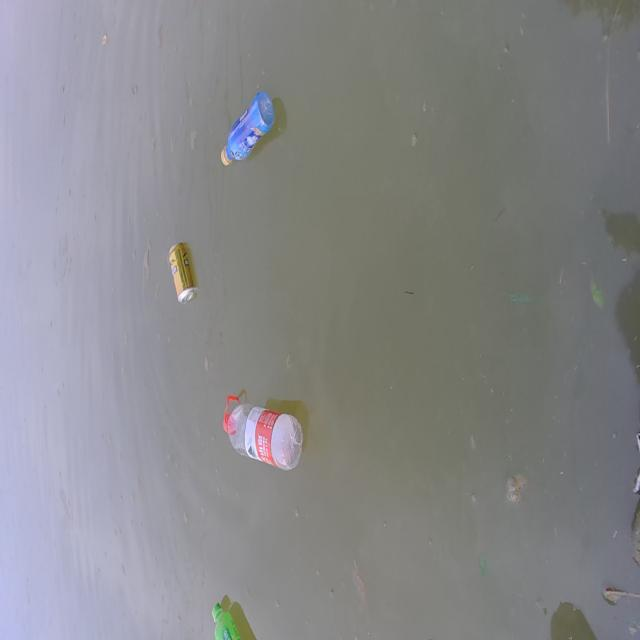bottle: (210, 370, 314, 492), (216, 74, 288, 172), (196, 595, 263, 640)
